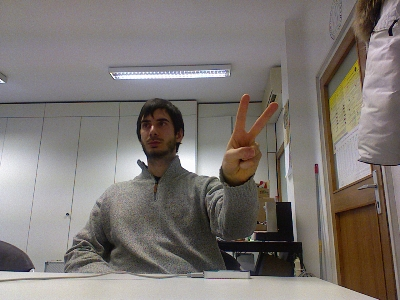剪刀: (218, 92, 278, 185)
